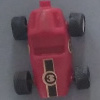rojo: (13, 1, 87, 97)
